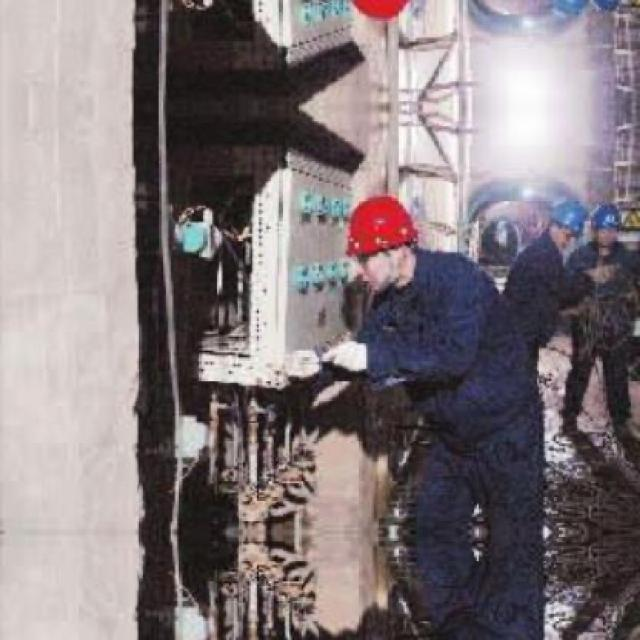helmet: (346, 188, 419, 288), (549, 192, 586, 245), (346, 0, 420, 26), (591, 198, 623, 244), (548, 0, 586, 22), (591, 0, 625, 15)
